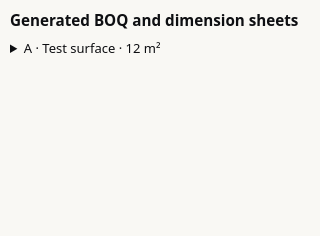
Test: shows rule decisions and source counts and follows refreshed generated quantities
Later steps or results of the test are not shown.
Click the heading "A · Test surface · 12 m²".
click(92, 48)  # box [24, 39, 160, 57]
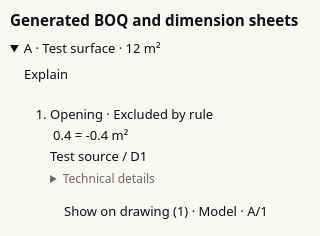
Expected: the text "Opening · Excluded by rule" is shown, [50, 105, 213, 123]
Expected: the text "Test source / D1" is shown, [50, 147, 147, 165]
